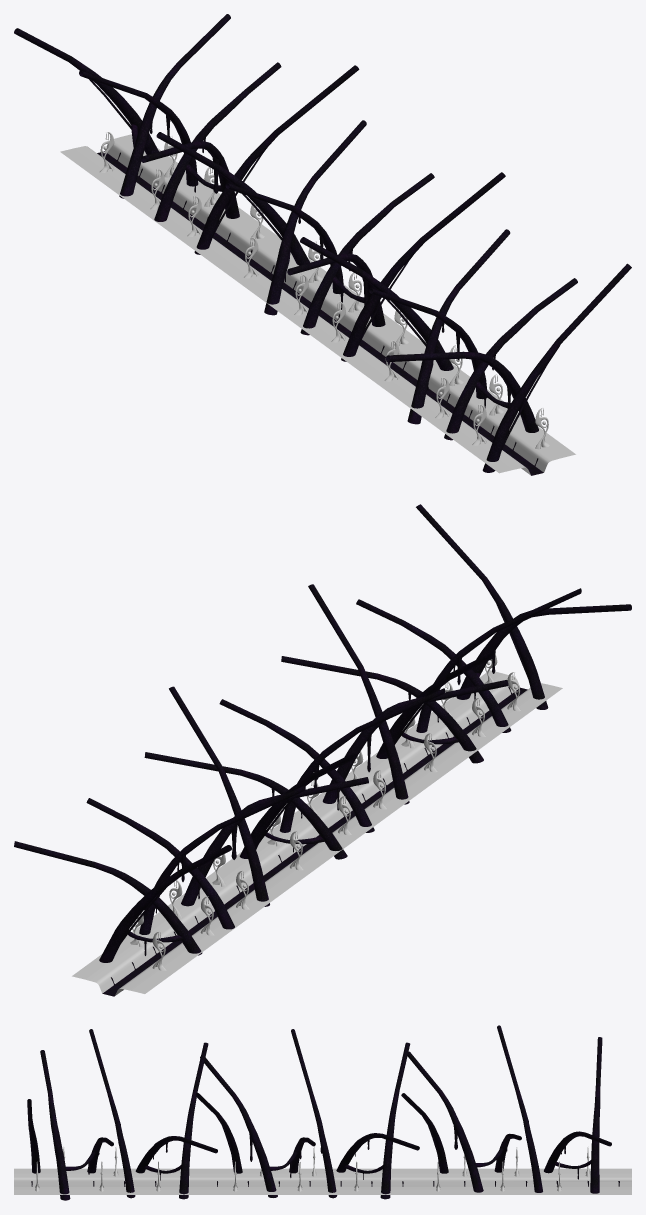
Rendered from map_hatr_1.fbx.
3 renders of one model, top to bottom at view 1: azimuth 30°, elevation 25°; view 2: azimuth 150°, elevation 25°; view 3: azimuth 270°, elevation 25°, orthographic. The views are drawn at different scales.
Parts seen in each view (by area): view 1: map_hatr_02; view 2: map_hatr_02; view 3: map_hatr_02.
Boxes of the visible parts, x1=… form: map_hatr_02: x1=14, y1=14, x2=631, y2=475; map_hatr_02: x1=14, y1=504, x2=631, y2=996; map_hatr_02: x1=14, y1=1025, x2=631, y2=1200.
Bounding box in the file's own units: 9689 × 7036 × 30000.
